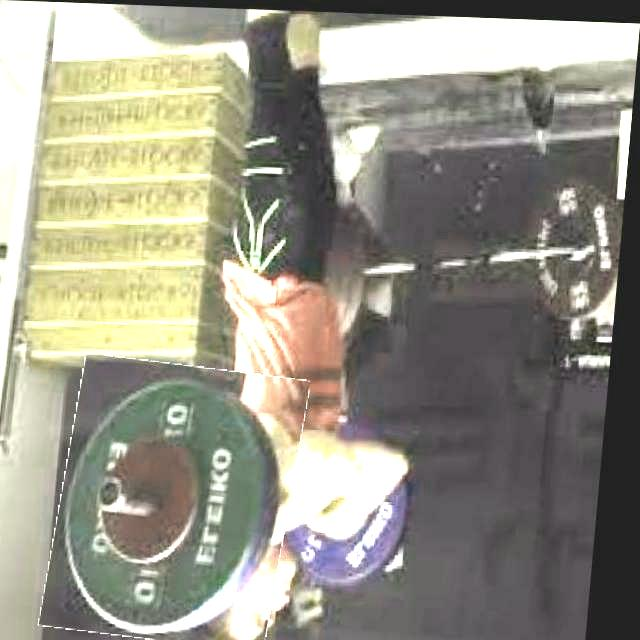barbell: (55, 357, 313, 640)
